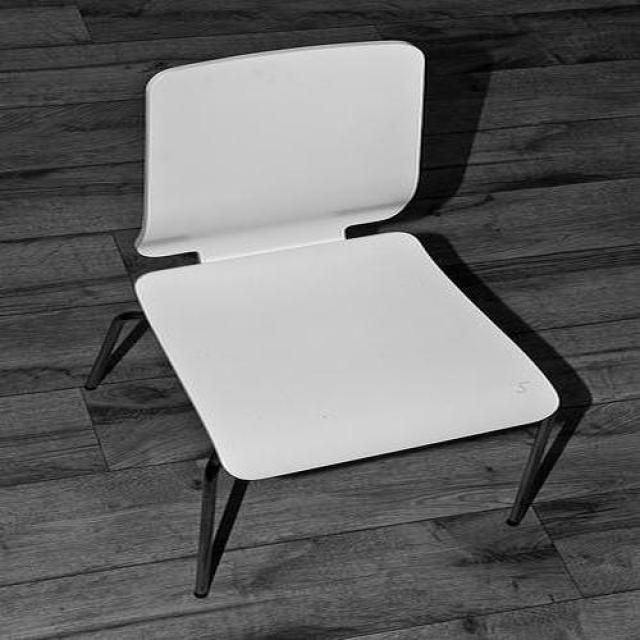chair: (132, 41, 594, 600)
